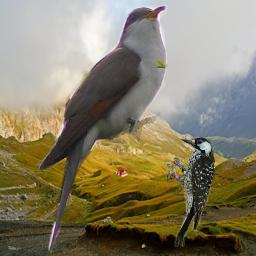Cuckoo: (37, 5, 168, 255)
Woodpecker: (167, 137, 215, 247)
